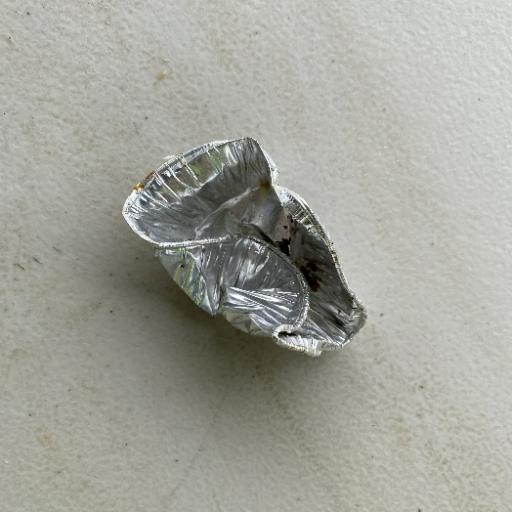Metal: (120, 134, 368, 358)
